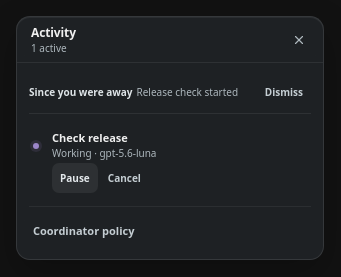
it: FocusCoordination › dismisses only the supplied monotonic activity sequence
Click the button "Dismiss": (284, 92) left=257, top=77, right=311, bottom=107
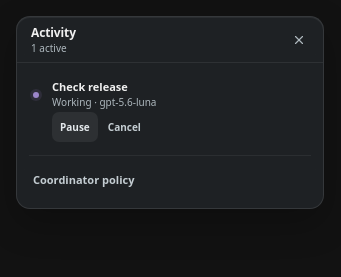
Now the text "Since you were away" is gone
